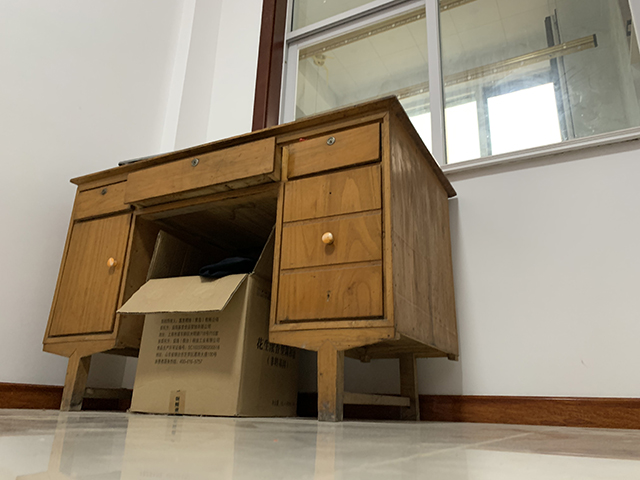table: (39, 93, 461, 424)
